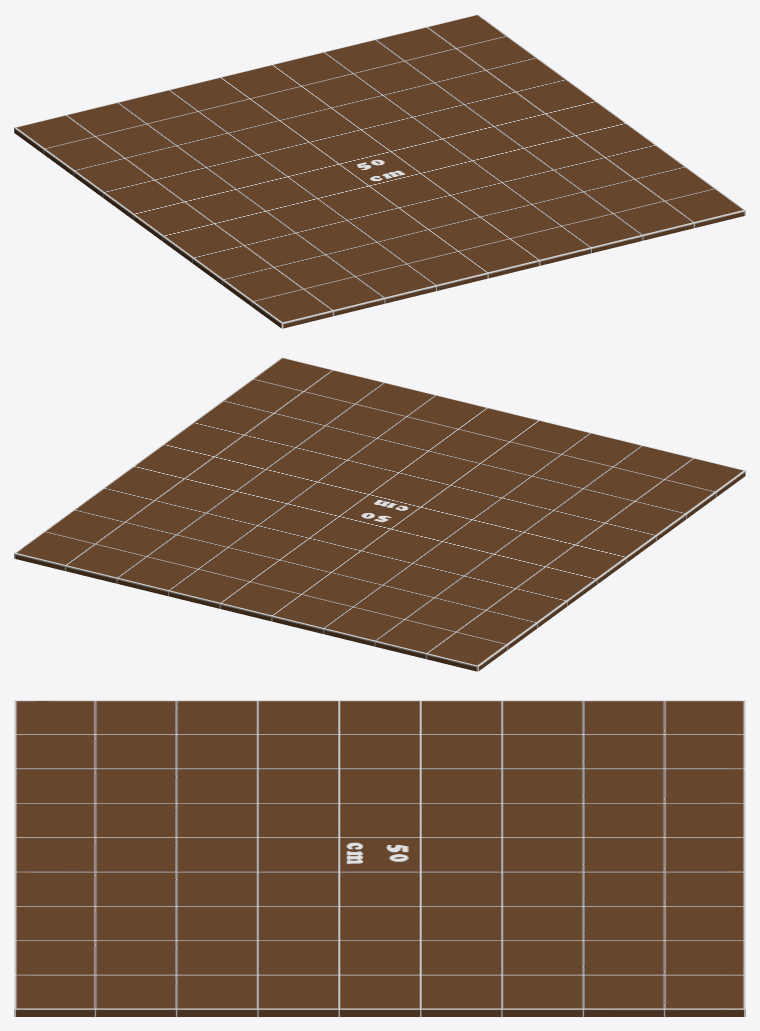
The model's file is Hangar01F_3.FBX.
3 renders of one model, top to bottom at view 1: azimuth 30°, elevation 25°; view 2: azimuth 150°, elevation 25°; view 3: azimuth 270°, elevation 25°, orthographic. The views are drawn at different scales.
Parts seen in each view (by area): view 1: Hangar01F_3; view 2: Hangar01F_3; view 3: Hangar01F_3.
Part boxes in pixels (box(x1,y1,x2,y2)): Hangar01F_3: box(14, 14, 745, 328); Hangar01F_3: box(14, 357, 745, 671); Hangar01F_3: box(14, 700, 745, 1016).
Size of what is drawn, in the model's own units: 4.5 by 0.05 by 4.5.
